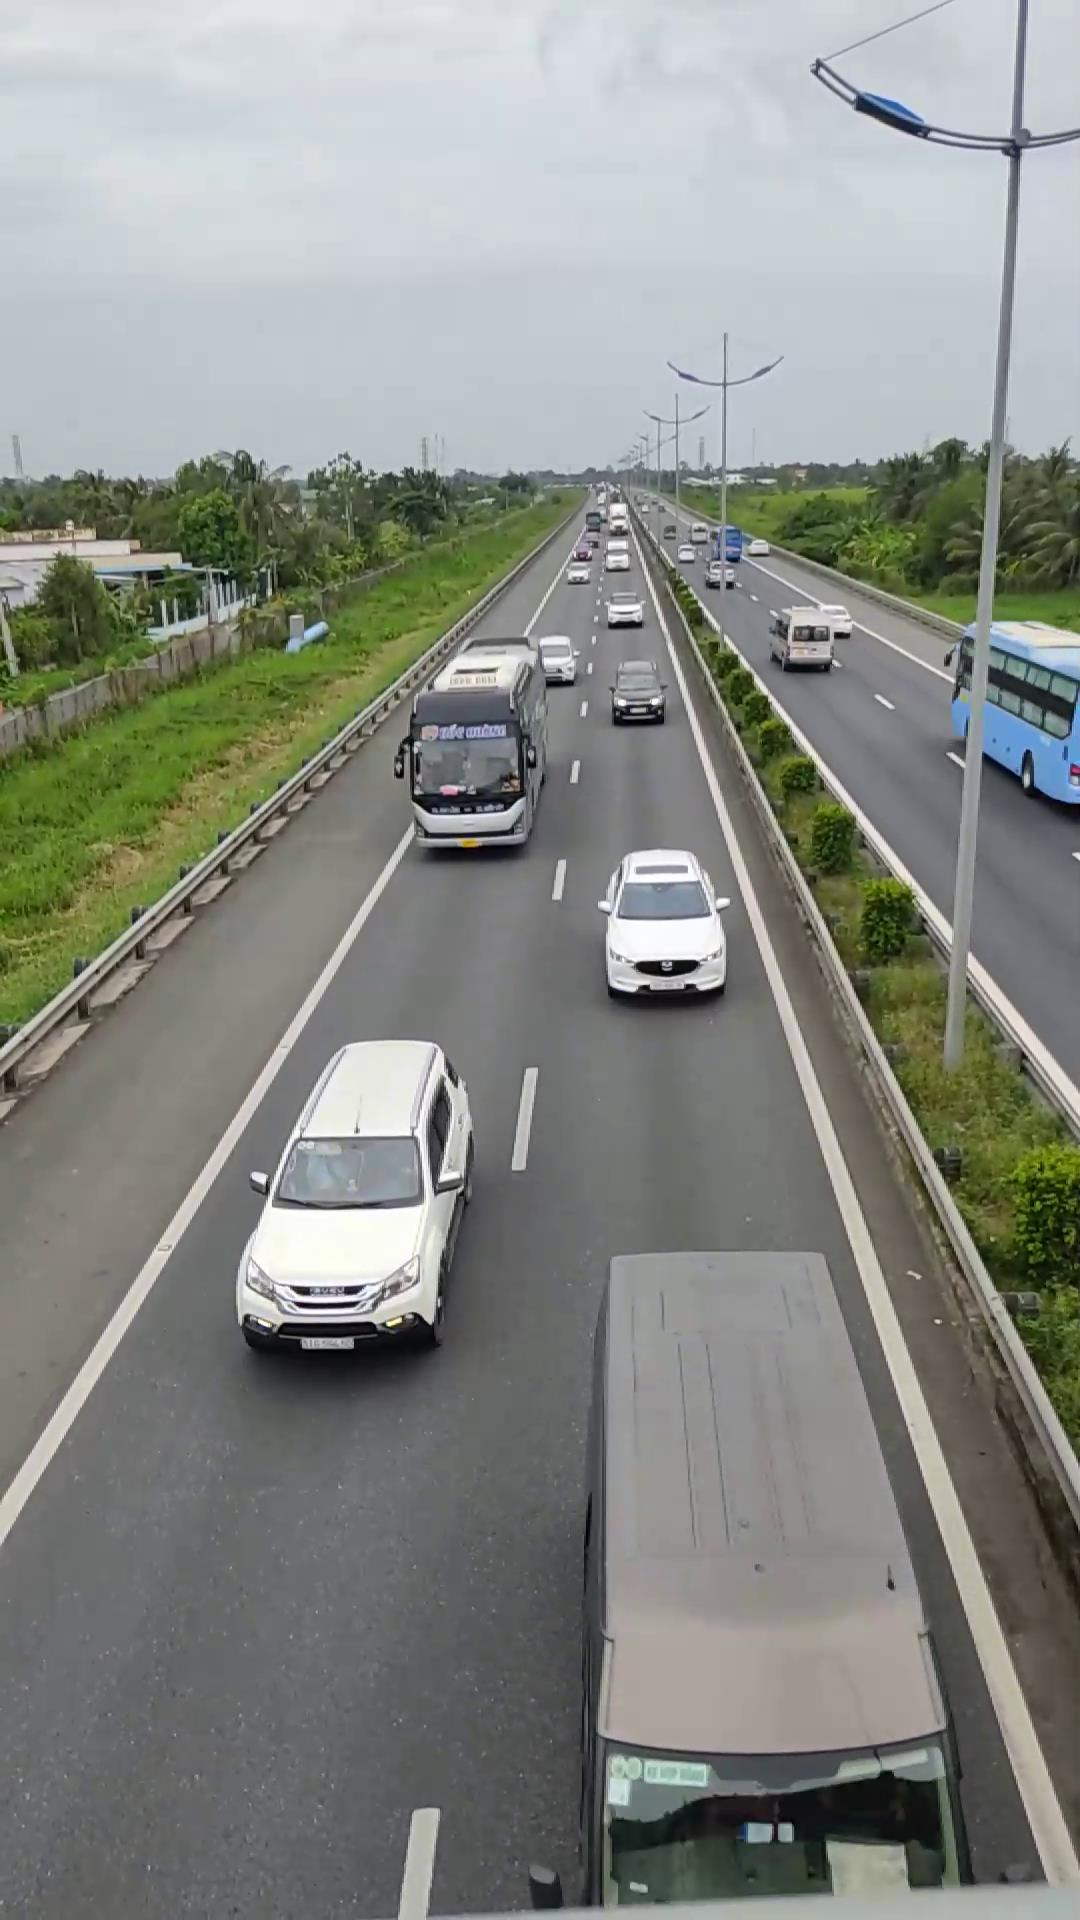bus: (404, 629, 553, 857)
car: (570, 1242, 963, 1894), (232, 1036, 476, 1356), (597, 847, 731, 1001)
